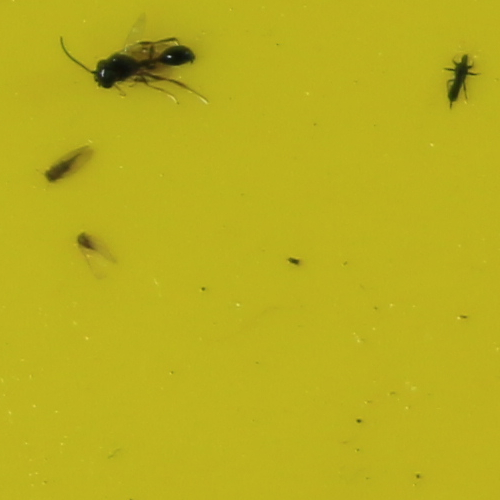psylla: (46, 147, 89, 182), (75, 228, 97, 250)
